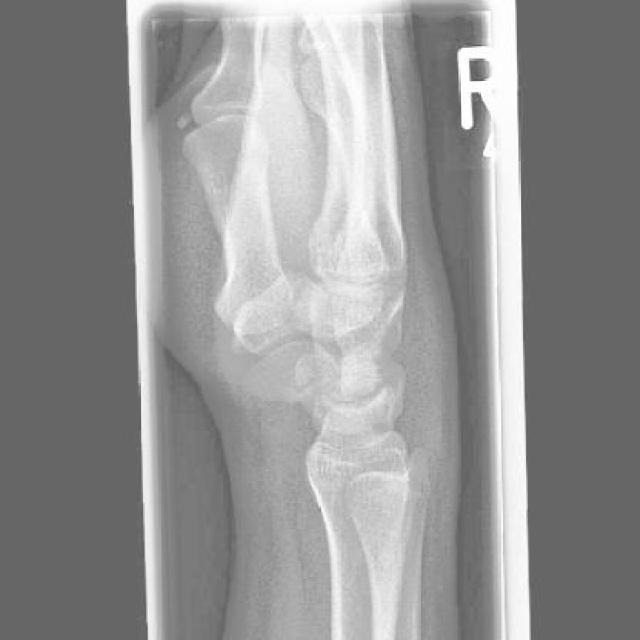Fracture: (314, 282, 408, 396)
